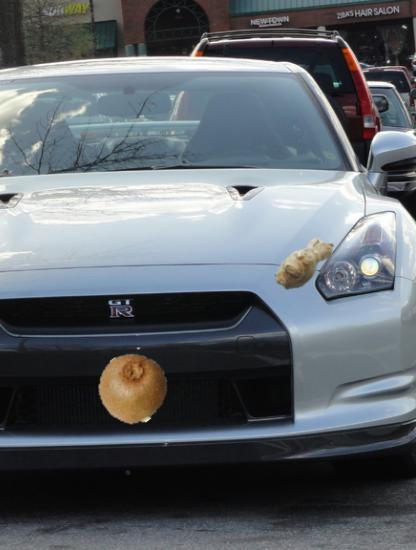Ginger: (270, 228, 341, 299)
Kiwi: (98, 352, 169, 423)
